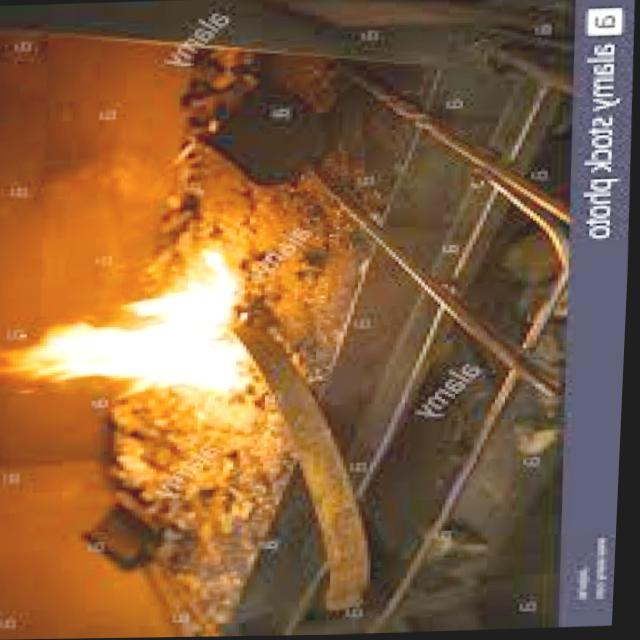helmet: (0, 242, 278, 425)
